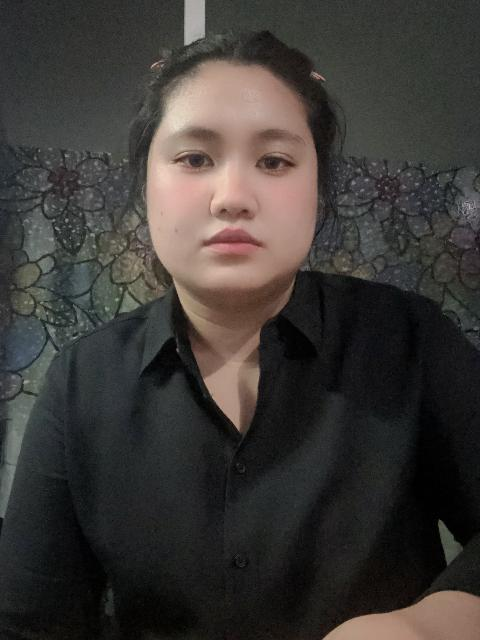fokus: (153, 62, 316, 298)
